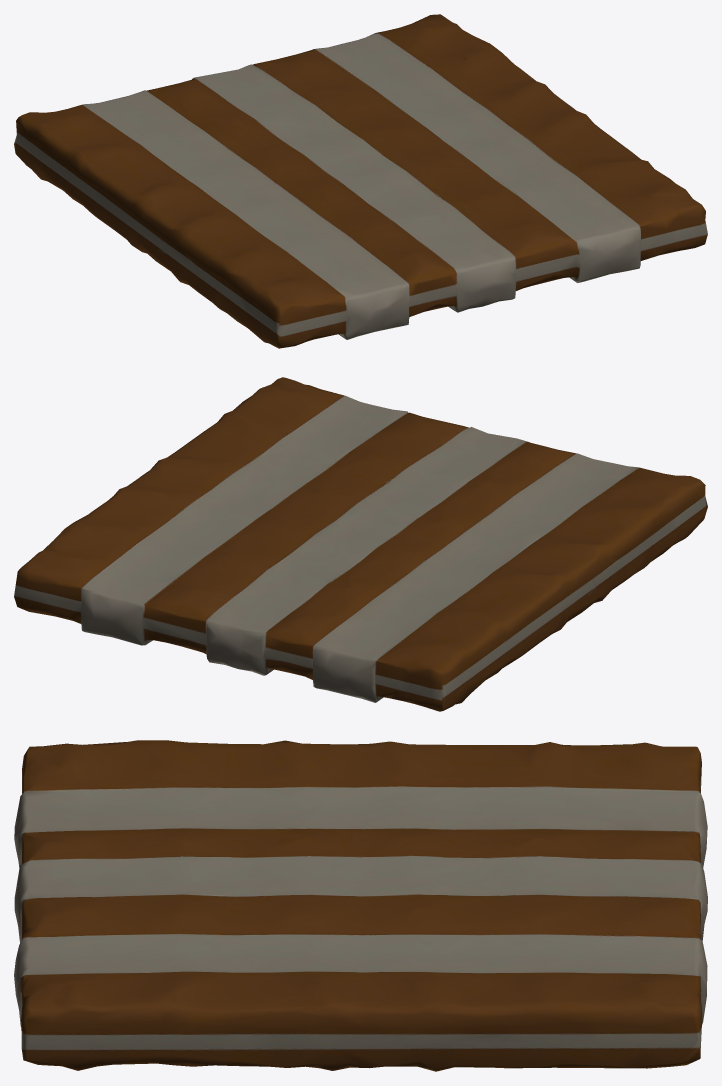
The model's file is tripo_convert_bdda4d39-5d79-4a25-ae42-01d1ef4d287b.fbx.
The picture shows the model from 3 angles, top to bottom: view 1: azimuth 30°, elevation 25°; view 2: azimuth 150°, elevation 25°; view 3: azimuth 270°, elevation 25°; orthographic projection. The views are drawn at different scales.
Parts seen in each view (by area): view 1: tripo_node_bdda4d39; view 2: tripo_node_bdda4d39; view 3: tripo_node_bdda4d39.
Boxes of the visible parts, left/top/right/bottom form: tripo_node_bdda4d39: left=14, top=14, right=707, bottom=348; tripo_node_bdda4d39: left=14, top=377, right=707, bottom=711; tripo_node_bdda4d39: left=14, top=740, right=707, bottom=1071.
Bounding box in the file's own units: 0.9238 × 0.1164 × 1.
1 material, 1 textured.
